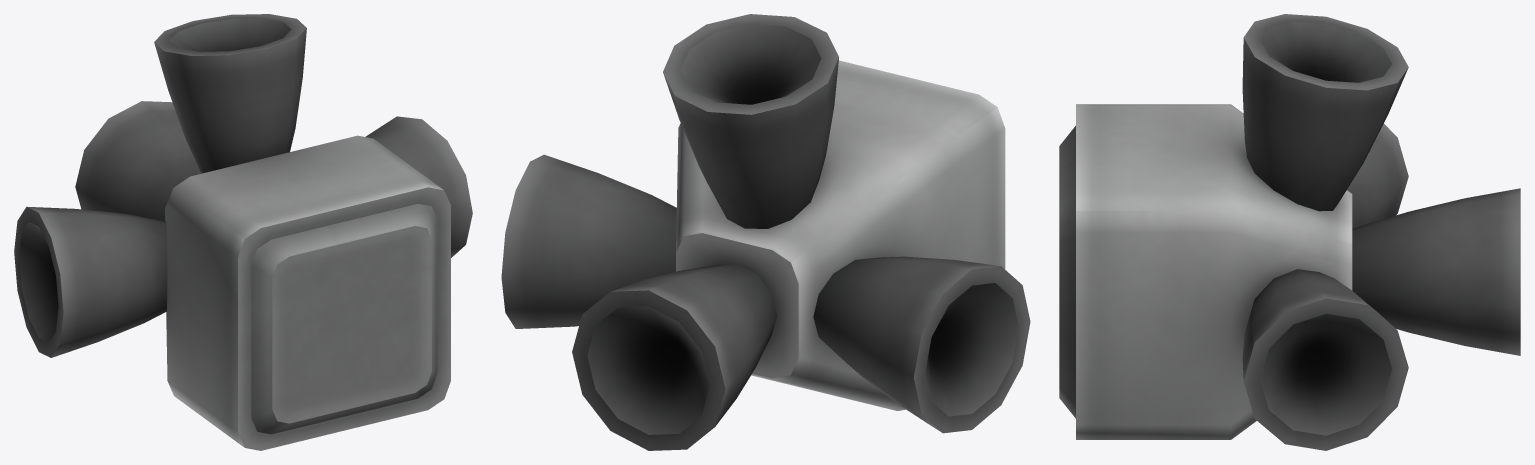
Rendered from Tantares_RCS_2_E.obj.
3 views of the same model, side by side, from view 1: azimuth 30°, elevation 25°; view 2: azimuth 150°, elevation 25°; view 3: azimuth 270°, elevation 25° (orthographic). The views are drawn at different scales.
Visible parts, largest first — view 1: Tantares_RCS_2_E; view 2: Tantares_RCS_2_E; view 3: Tantares_RCS_2_E.
Boxes of the visible parts, bbox=[...] form: Tantares_RCS_2_E: bbox=[14, 14, 472, 450]; Tantares_RCS_2_E: bbox=[501, 14, 1030, 450]; Tantares_RCS_2_E: bbox=[1059, 14, 1520, 450].
Size of the model in its own units: 0.1923 by 0.1461 by 0.1712.
